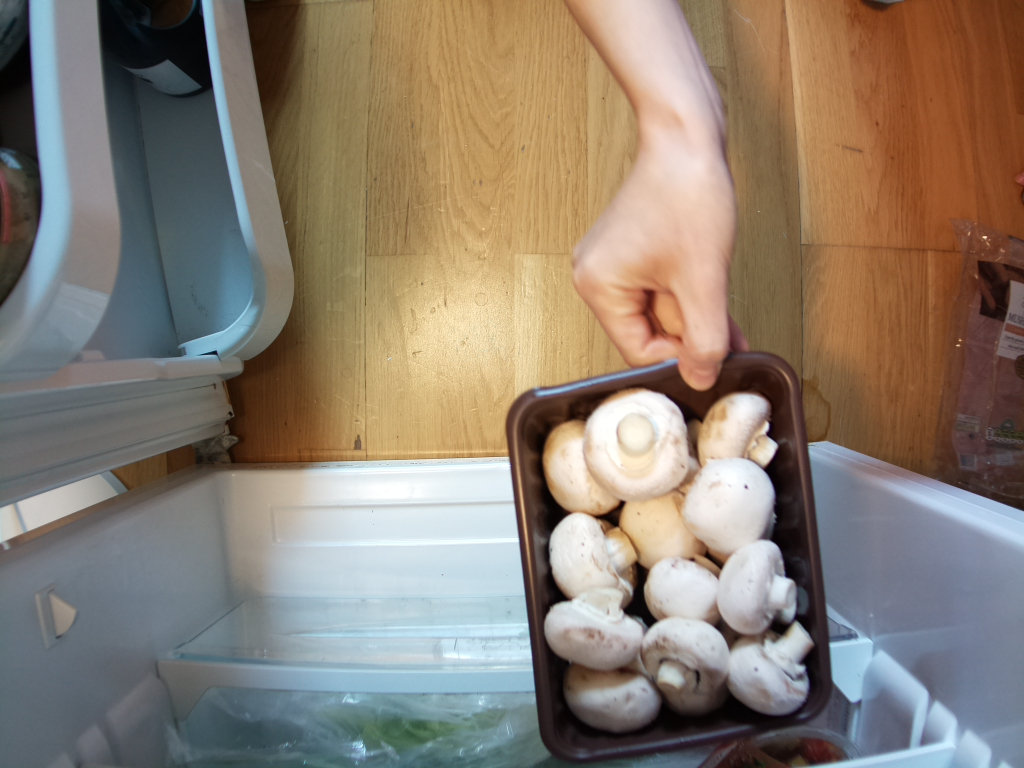mushrooms: (504, 337, 845, 763)
